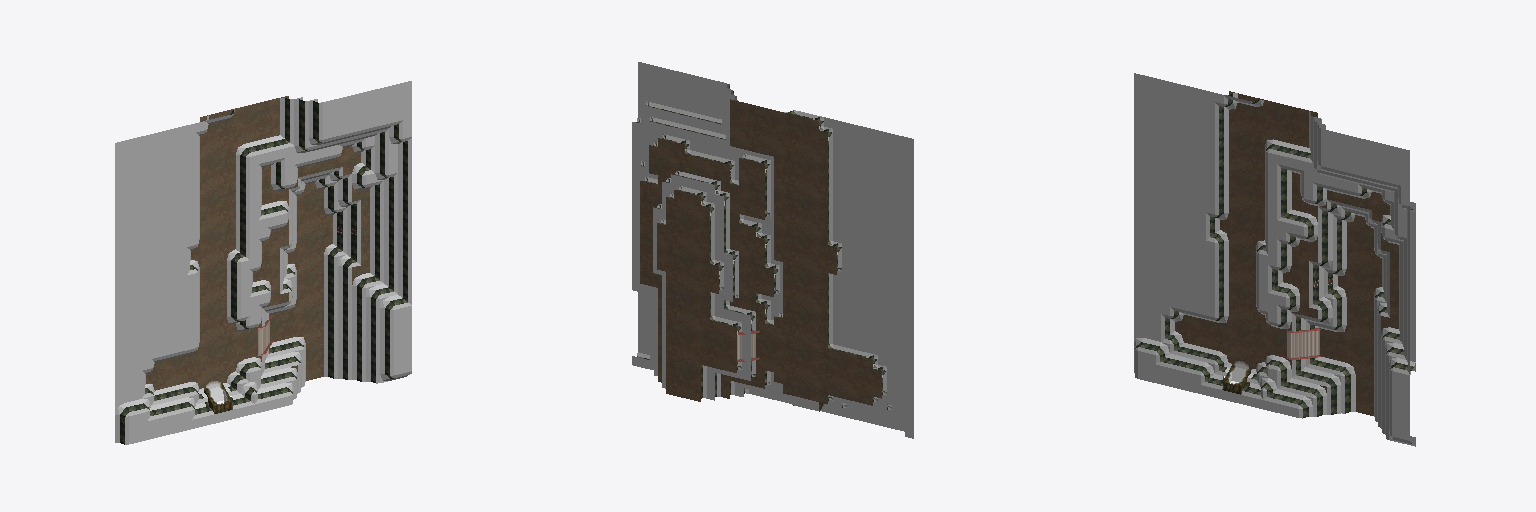
The picture shows the model from 3 angles: view 1: azimuth 30°, elevation 25°; view 2: azimuth 150°, elevation 25°; view 3: azimuth 330°, elevation 25°; orthographic projection.
Visible parts, largest first — view 1: map; view 2: map; view 3: map.
Boxes of the visible parts, x1,y1,x2,y2 form: map: [115, 81, 411, 444]; map: [632, 62, 913, 438]; map: [1134, 73, 1415, 446].
Size of the model in its own units: 32 by 32 by 5.01.
Materials: 12 (7 with a texture image).